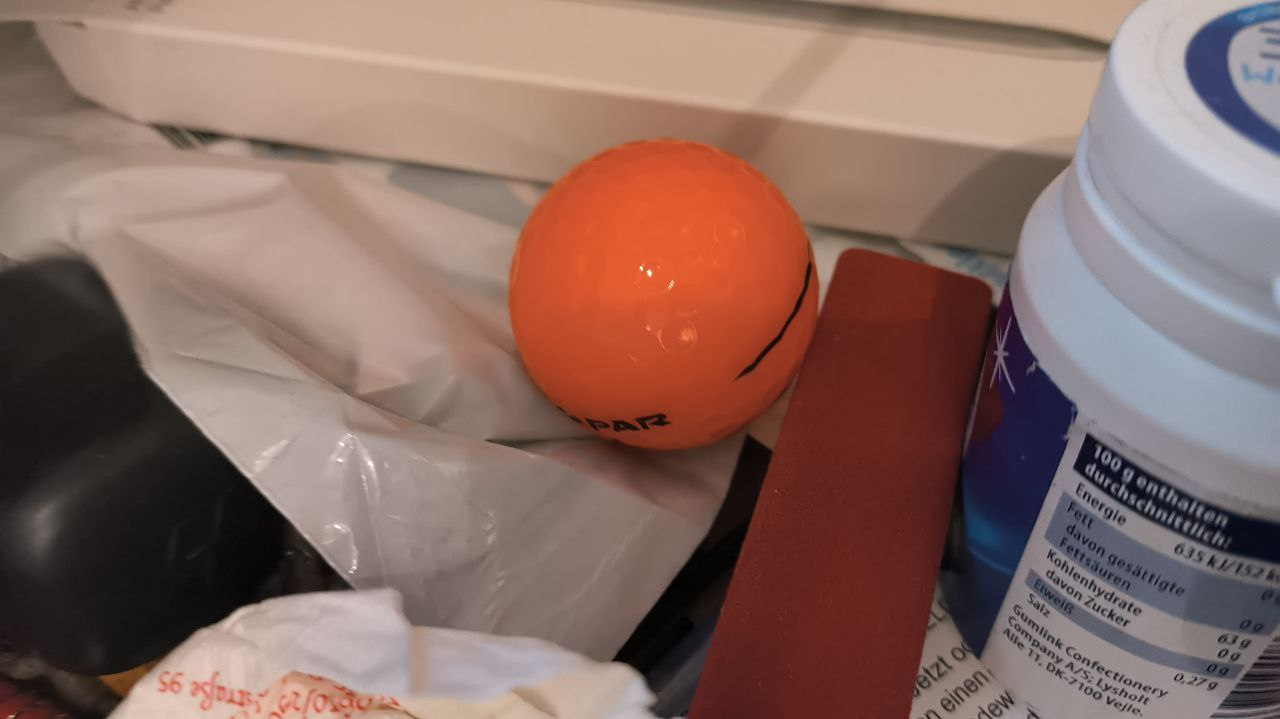orange_ball: (508, 138, 820, 452)
